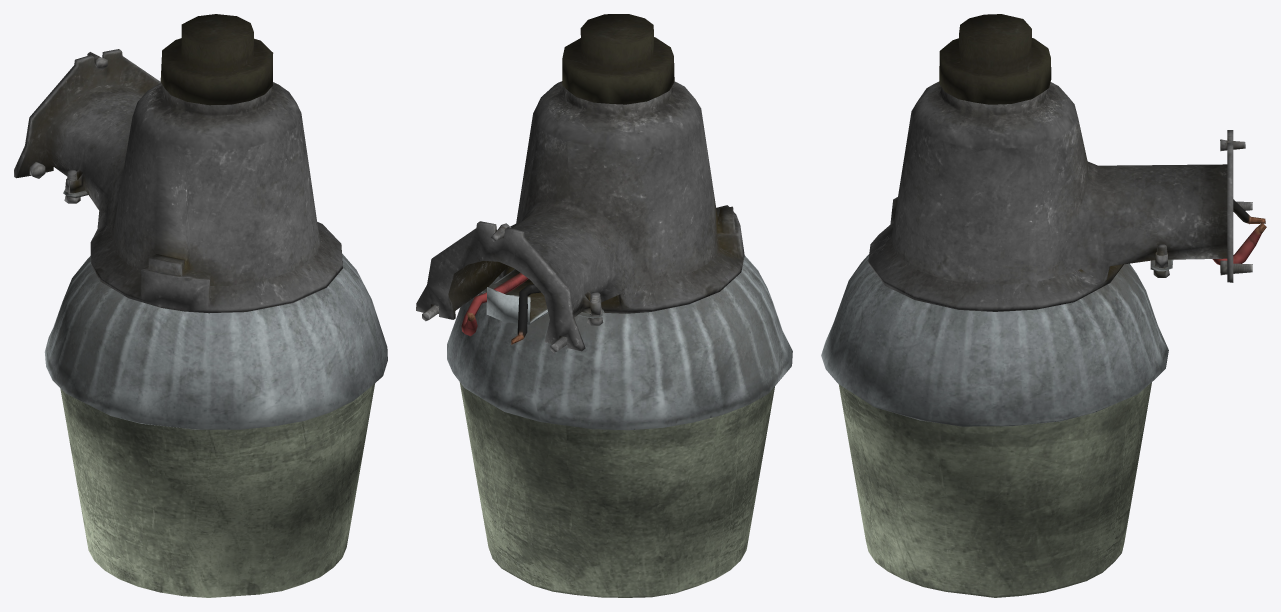
Rendered from security_light.fbx.
3 views of the same model, side by side, from view 1: azimuth 30°, elevation 25°; view 2: azimuth 150°, elevation 25°; view 3: azimuth 270°, elevation 25° (orthographic).
Visible parts, largest first — view 1: Static__security_light_security_light; view 2: Static__security_light_security_light; view 3: Static__security_light_security_light.
Part boxes in pixels (left/top/right/bottom): Static__security_light_security_light: left=14, top=14, right=387, bottom=597; Static__security_light_security_light: left=416, top=14, right=792, bottom=597; Static__security_light_security_light: left=821, top=14, right=1266, bottom=597.
Bounding box in the file's own units: 32.23 × 53.1 × 41.73.
